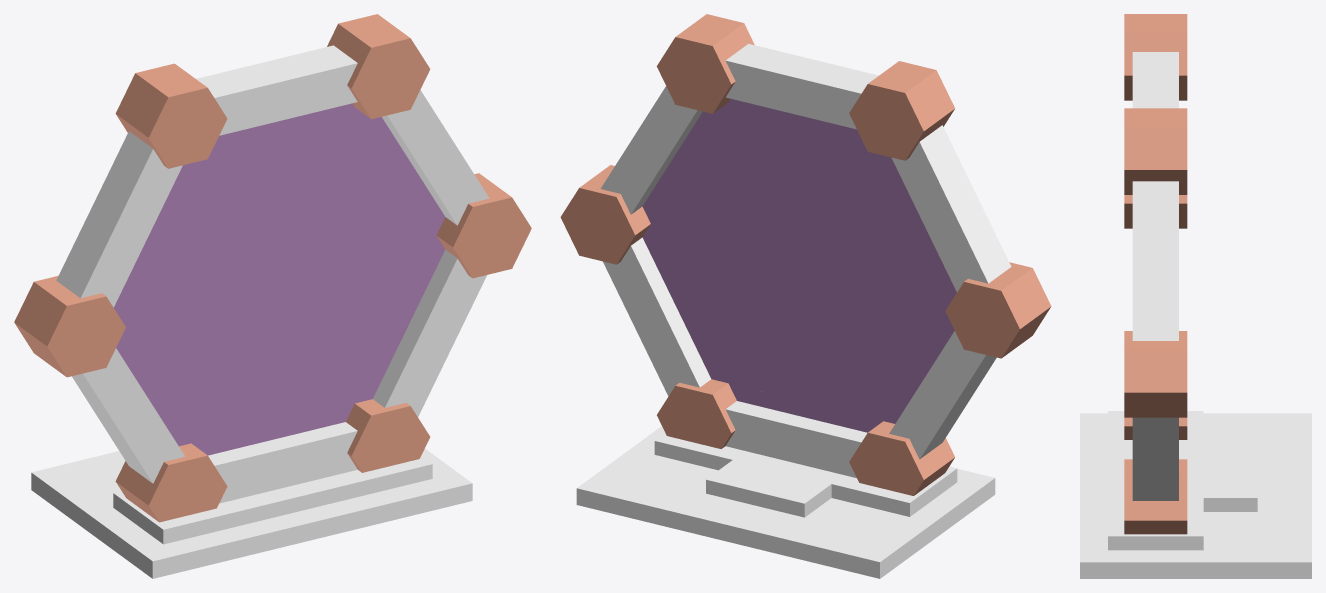
The model's file is portal.glb.
3 renders of one model, left to right at view 1: azimuth 30°, elevation 25°; view 2: azimuth 150°, elevation 25°; view 3: azimuth 270°, elevation 25°, orthographic. The views are drawn at different scales.
Visible parts, largest first — view 1: portal; view 2: portal; view 3: portal.
Boxes of the visible parts, box(x1,y1,x2,y2) form: portal: box(14, 14, 531, 578); portal: box(560, 14, 1051, 578); portal: box(1080, 14, 1311, 578).
Size of the model in its own units: 15.21 by 13.65 by 6.61.
